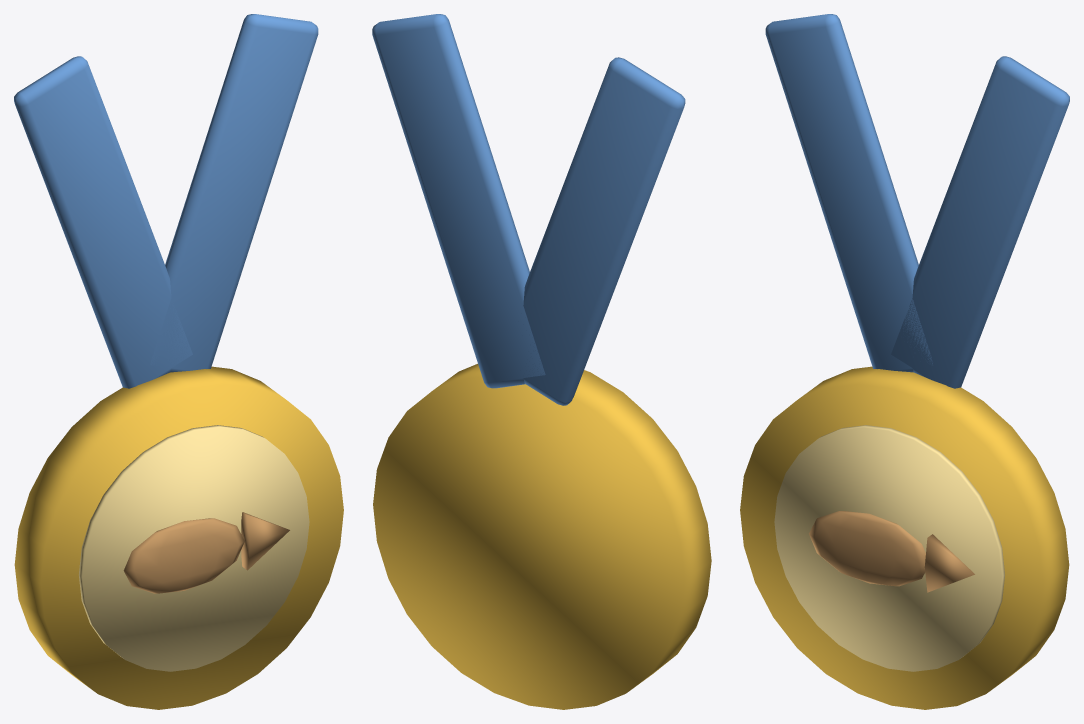
The model's file is festival-medal.glb.
The picture shows the model from 3 angles, left to right: view 1: azimuth 30°, elevation 25°; view 2: azimuth 150°, elevation 25°; view 3: azimuth 330°, elevation 25°; orthographic projection. The views are drawn at different scales.
Visible parts, largest first — view 1: medal; view 2: medal; view 3: medal.
Part boxes in pixels (x1,y1,x2,y2): medal: (14,14,343,709); medal: (372,14,711,709); medal: (740,14,1069,709).
Bounding box in the file's own units: 0.2 × 0.4101 × 0.05.
